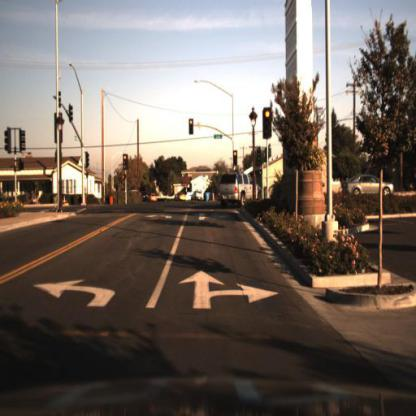car: (218, 173, 263, 205), (173, 190, 190, 206), (176, 190, 191, 206), (147, 193, 158, 210), (191, 191, 204, 204)
trafficLight-Red: (261, 107, 275, 145), (124, 150, 132, 171), (189, 116, 197, 136), (265, 107, 273, 124), (233, 149, 239, 167), (188, 118, 195, 131), (232, 148, 238, 159), (123, 153, 128, 166)
